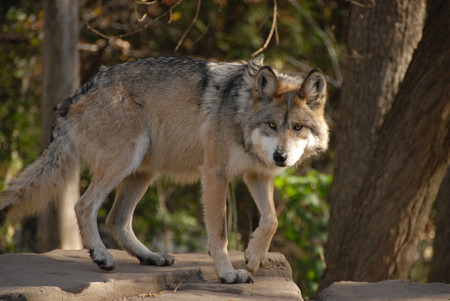Lobo: (7, 56, 337, 296)
